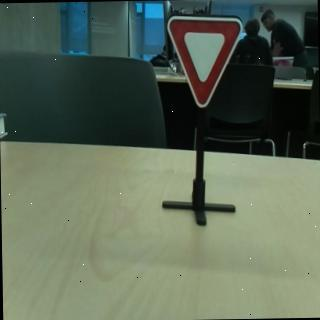sign_yield: (166, 14, 247, 110)
